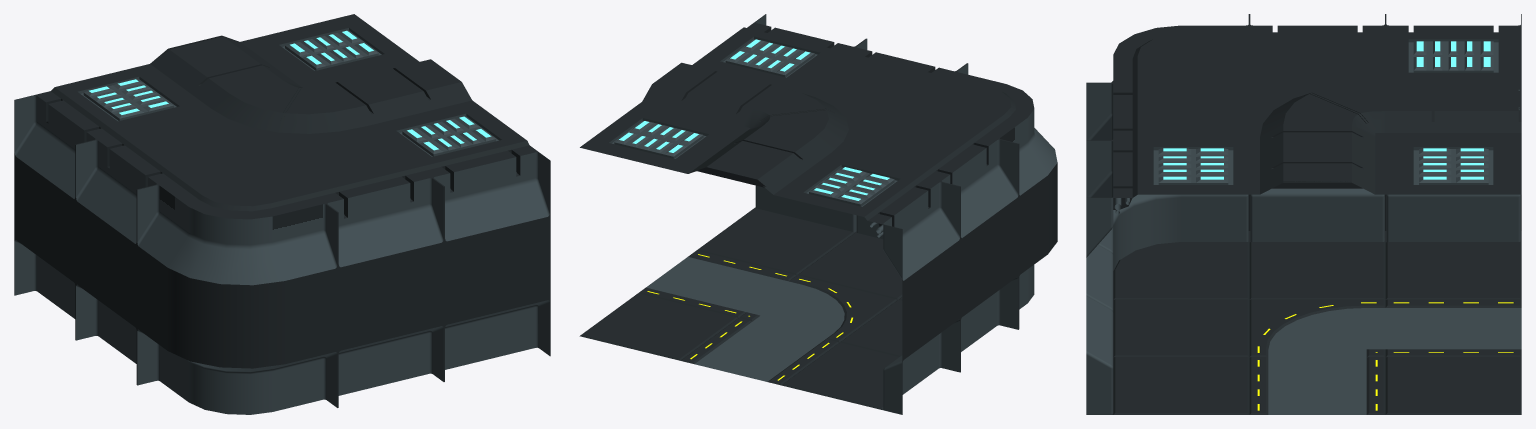
The model's file is hall90.fbx.
3 renders of one model, left to right at view 1: azimuth 30°, elevation 25°; view 2: azimuth 150°, elevation 25°; view 3: azimuth 270°, elevation 25°, orthographic. The views are drawn at different scales.
Visible parts, largest first — view 1: hall90; view 2: hall90; view 3: hall90.
Part boxes in pixels (box(x1,y1,x2,y2)): hall90: box(14, 14, 550, 414); hall90: box(579, 14, 1057, 414); hall90: box(1086, 14, 1521, 414).
Size of what is drawn, in the model's own units: 6.4 by 6.4 by 3.77.
